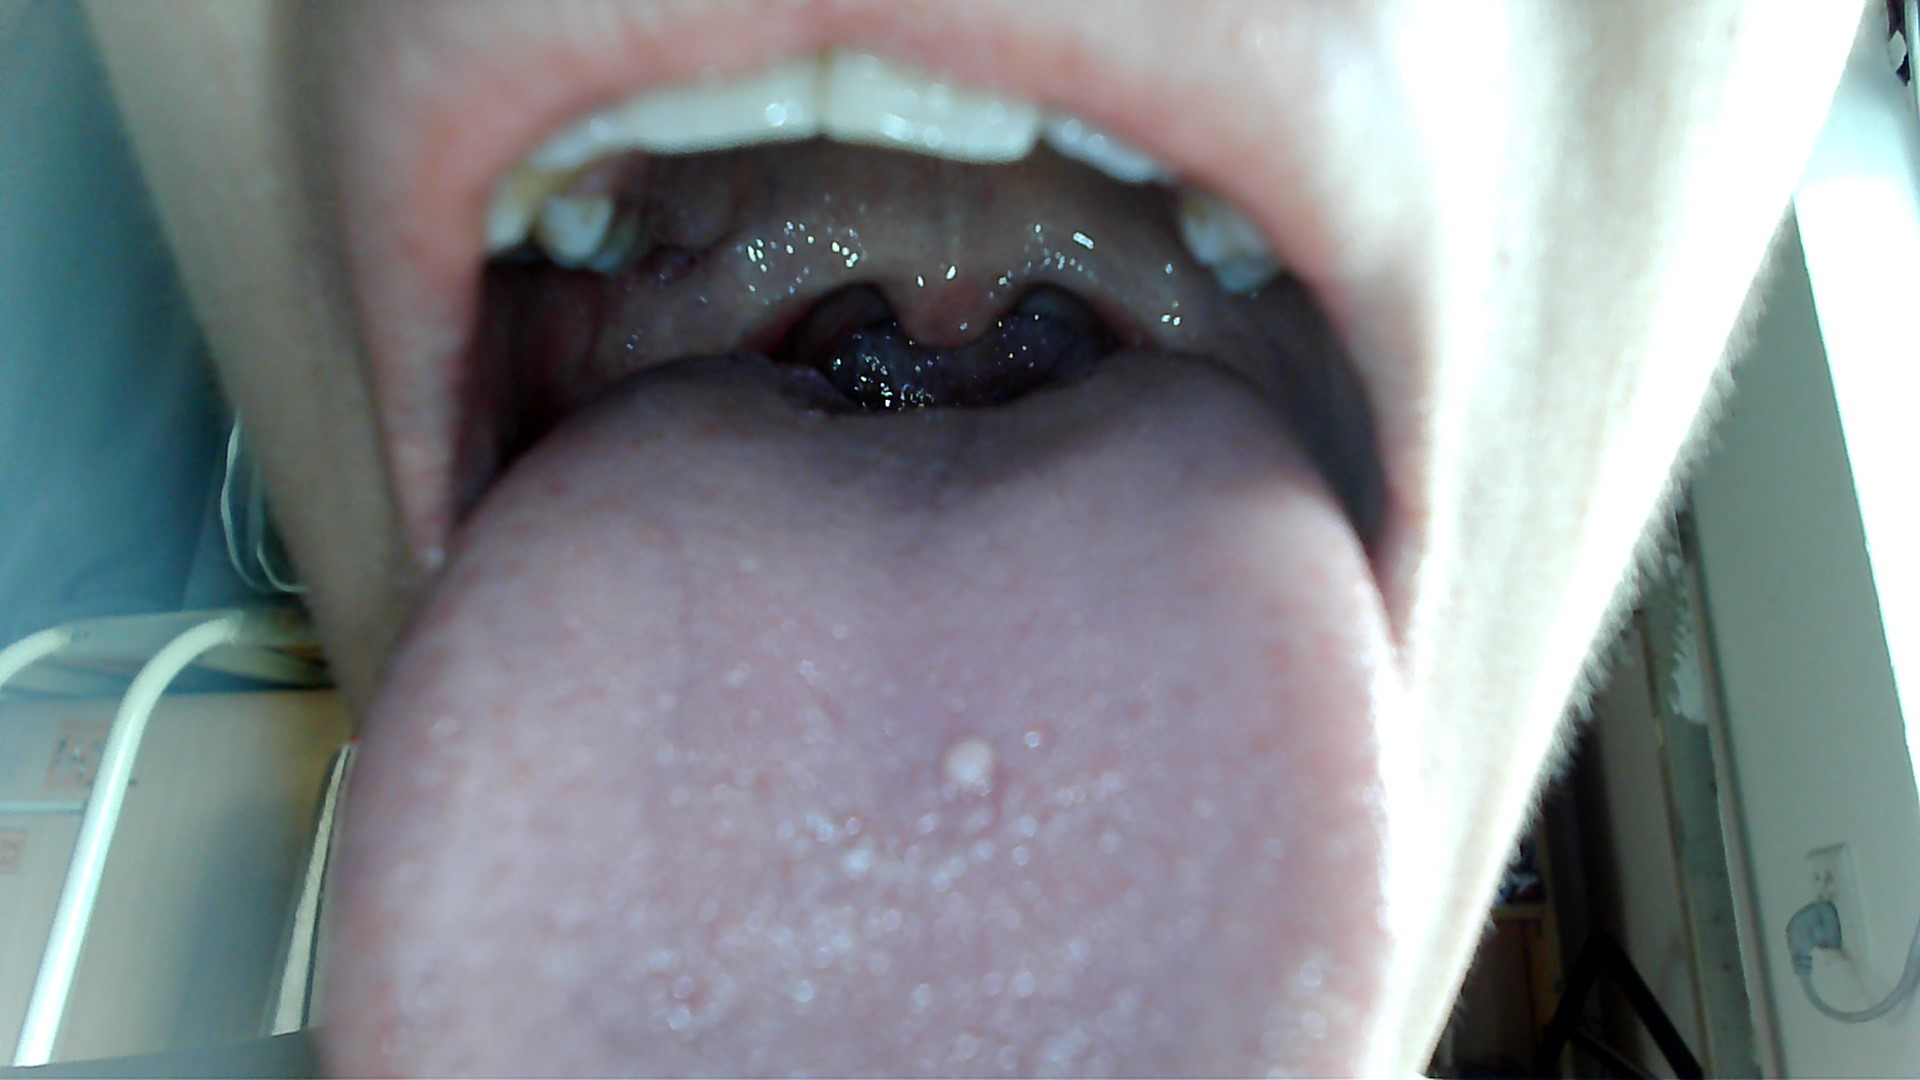throat: (1062, 244, 1193, 356), (709, 248, 822, 364)
